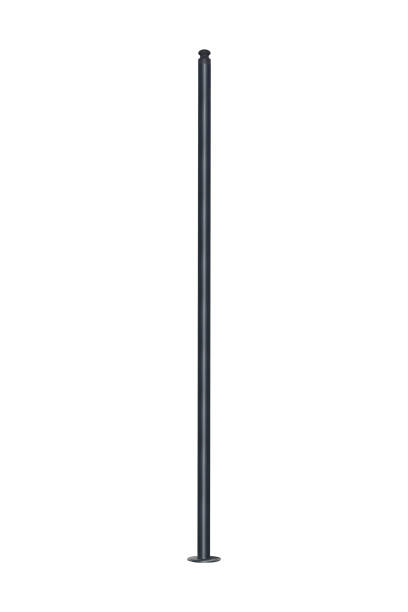light_pole: (192, 52, 214, 559)
